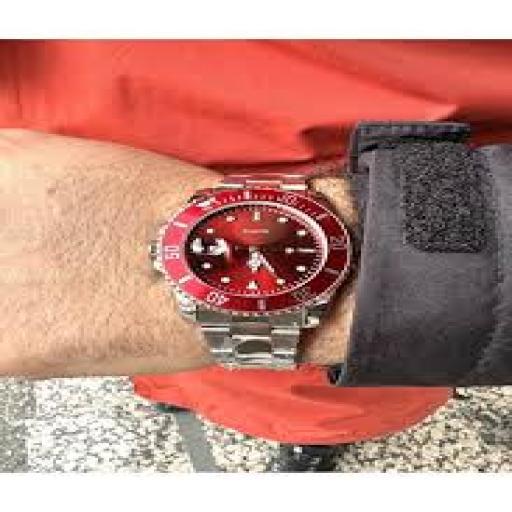KolSaati: (111, 128, 369, 372)
